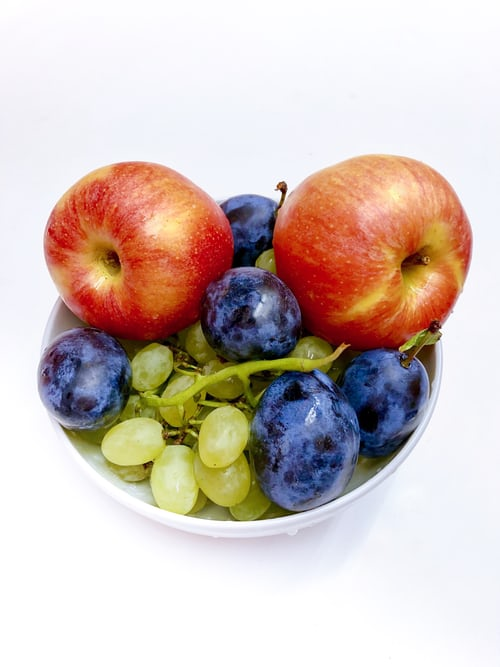apple: (272, 147, 474, 356), (43, 158, 236, 339)
